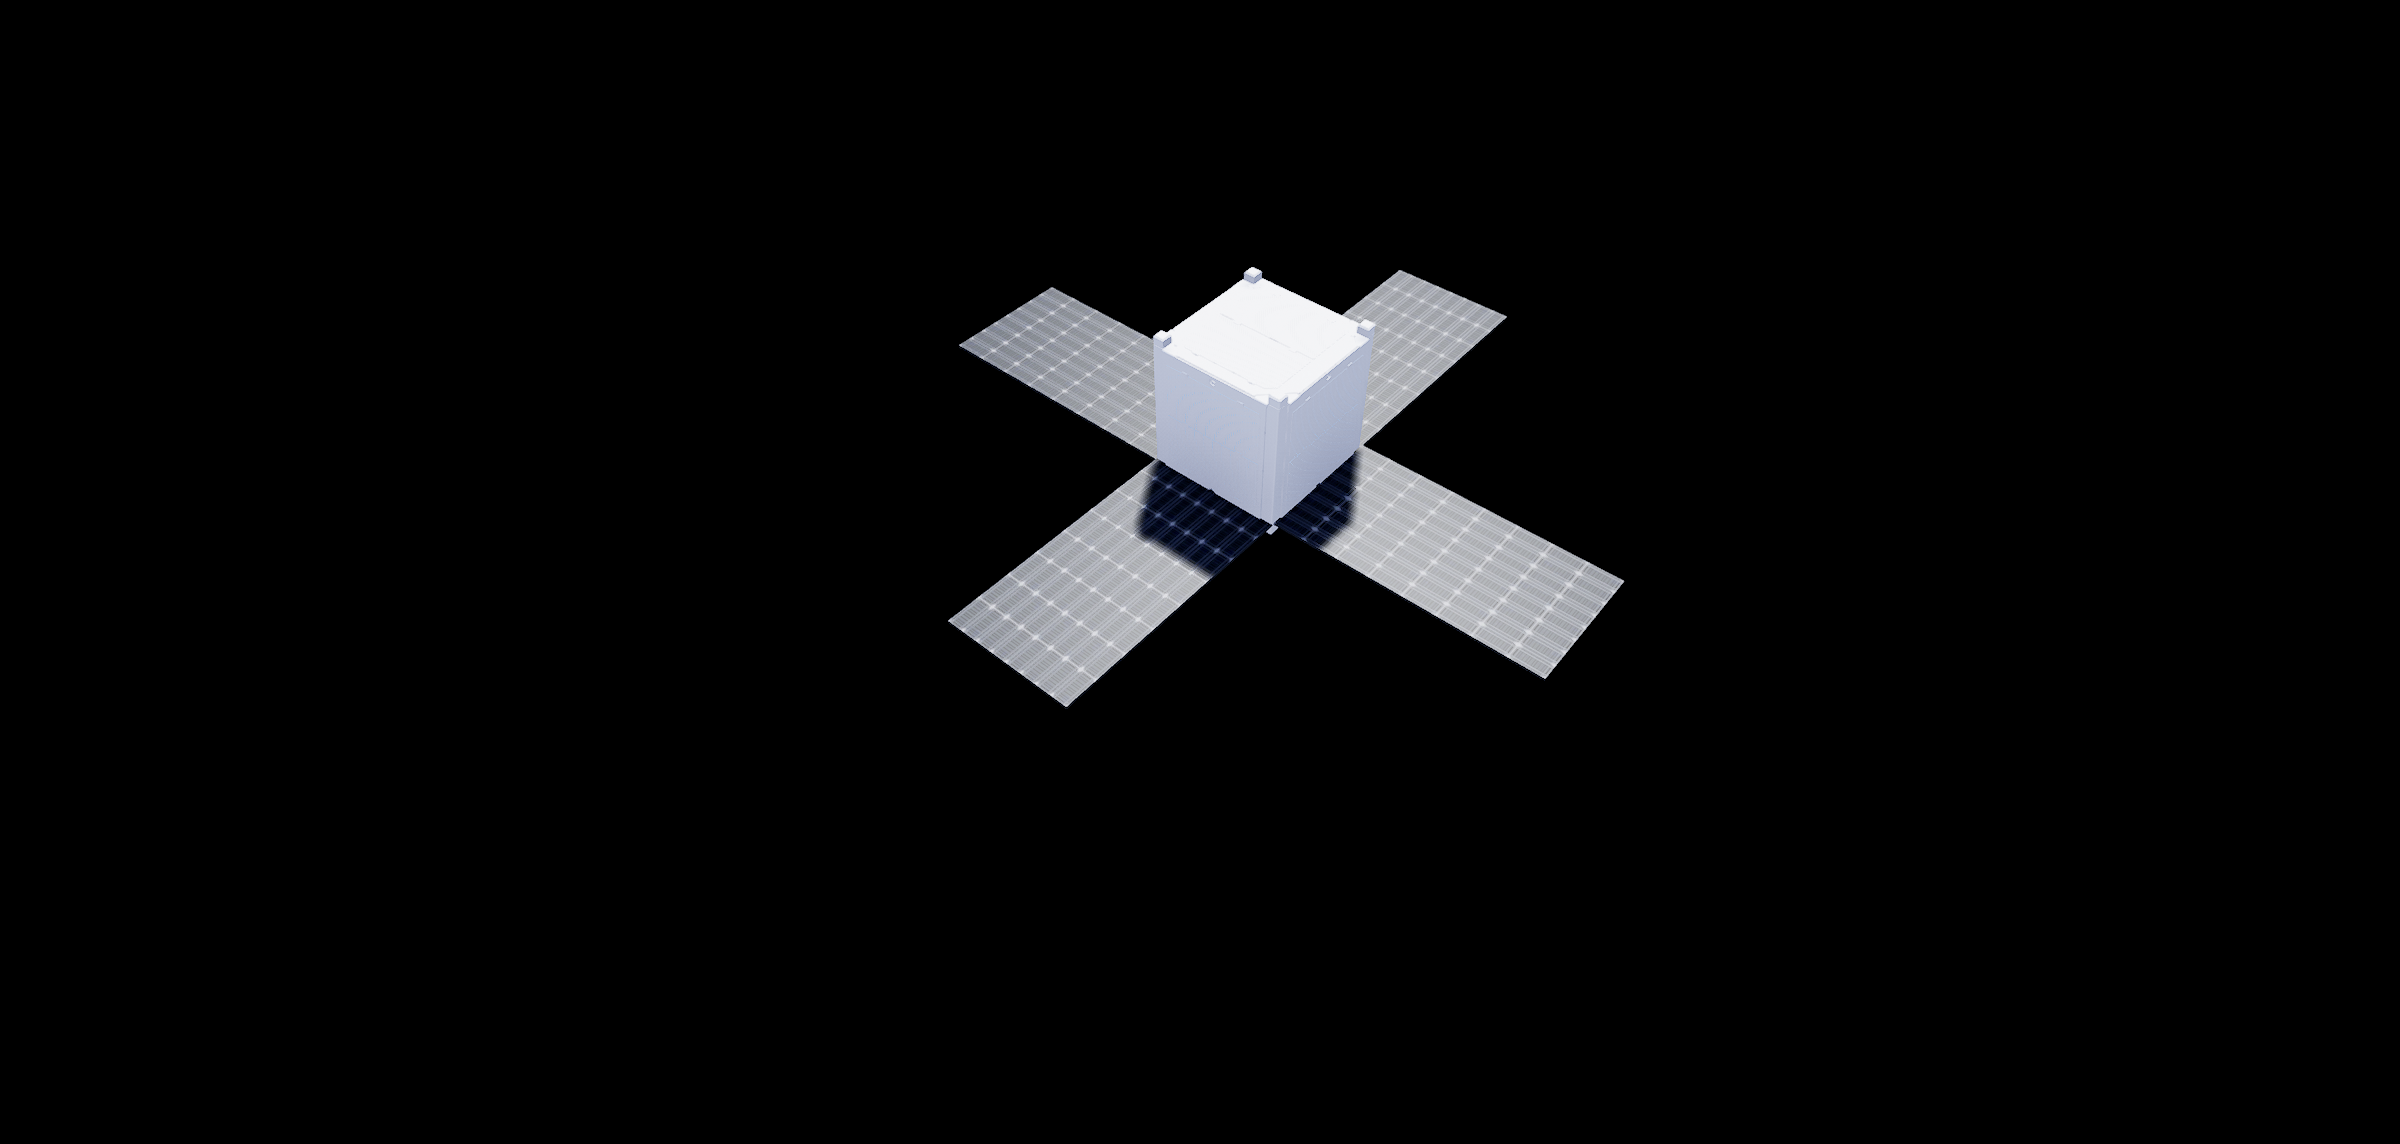satellite: (902, 204, 1665, 755)
